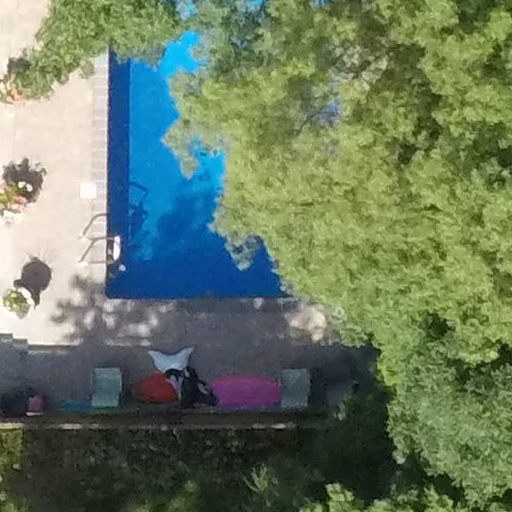chair: (86, 360, 131, 412)
pool: (82, 1, 365, 304)
toy: (145, 343, 219, 413), (205, 370, 289, 414), (128, 371, 181, 408)
